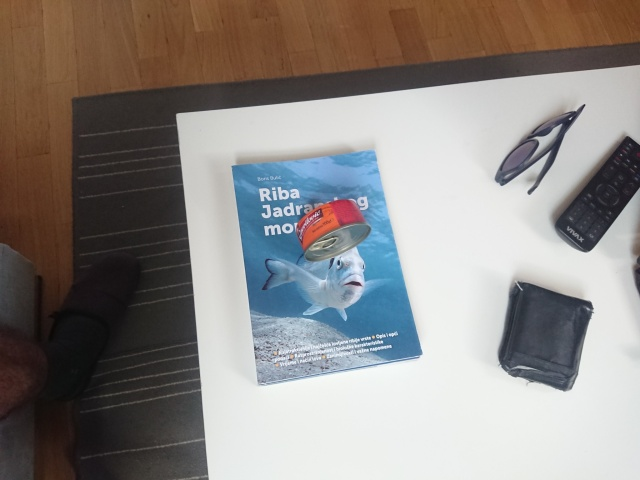Gavrilovic Pork Liver Pate 100g: (292, 196, 373, 263)
